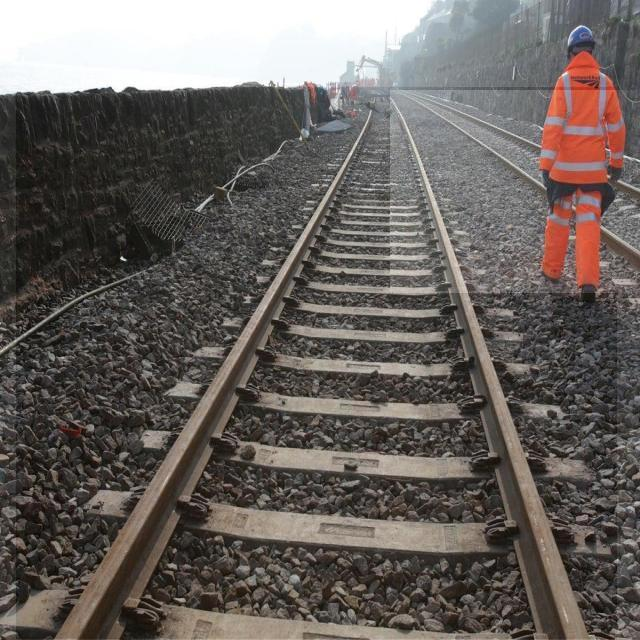rail: (18, 88, 618, 640), (391, 92, 640, 294)
